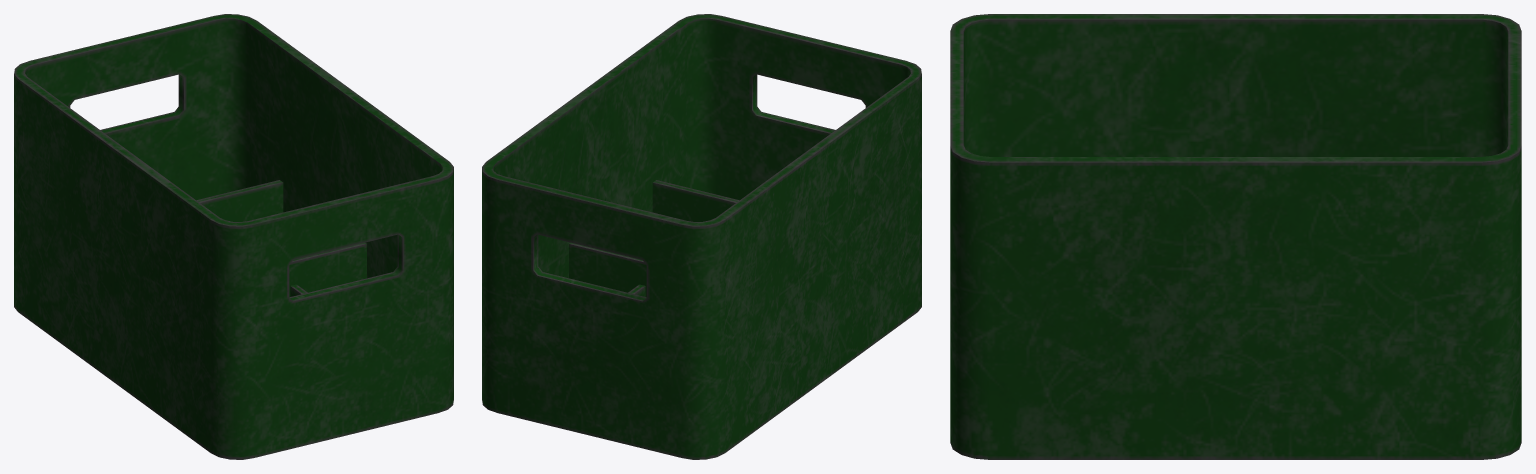
The model's file is CR_Plastic_box.fbx.
3 renders of one model, left to right at view 1: azimuth 30°, elevation 25°; view 2: azimuth 150°, elevation 25°; view 3: azimuth 270°, elevation 25°, orthographic. The views are drawn at different scales.
Parts seen in each view (by area): view 1: Plastic_box; view 2: Plastic_box; view 3: Plastic_box.
Boxes of the visible parts, box(x1,y1,x2,y2) form: Plastic_box: box(14, 14, 453, 459); Plastic_box: box(482, 14, 921, 459); Plastic_box: box(950, 14, 1521, 459).
Bounding box in the file's own units: 30 × 28 × 48.73.
